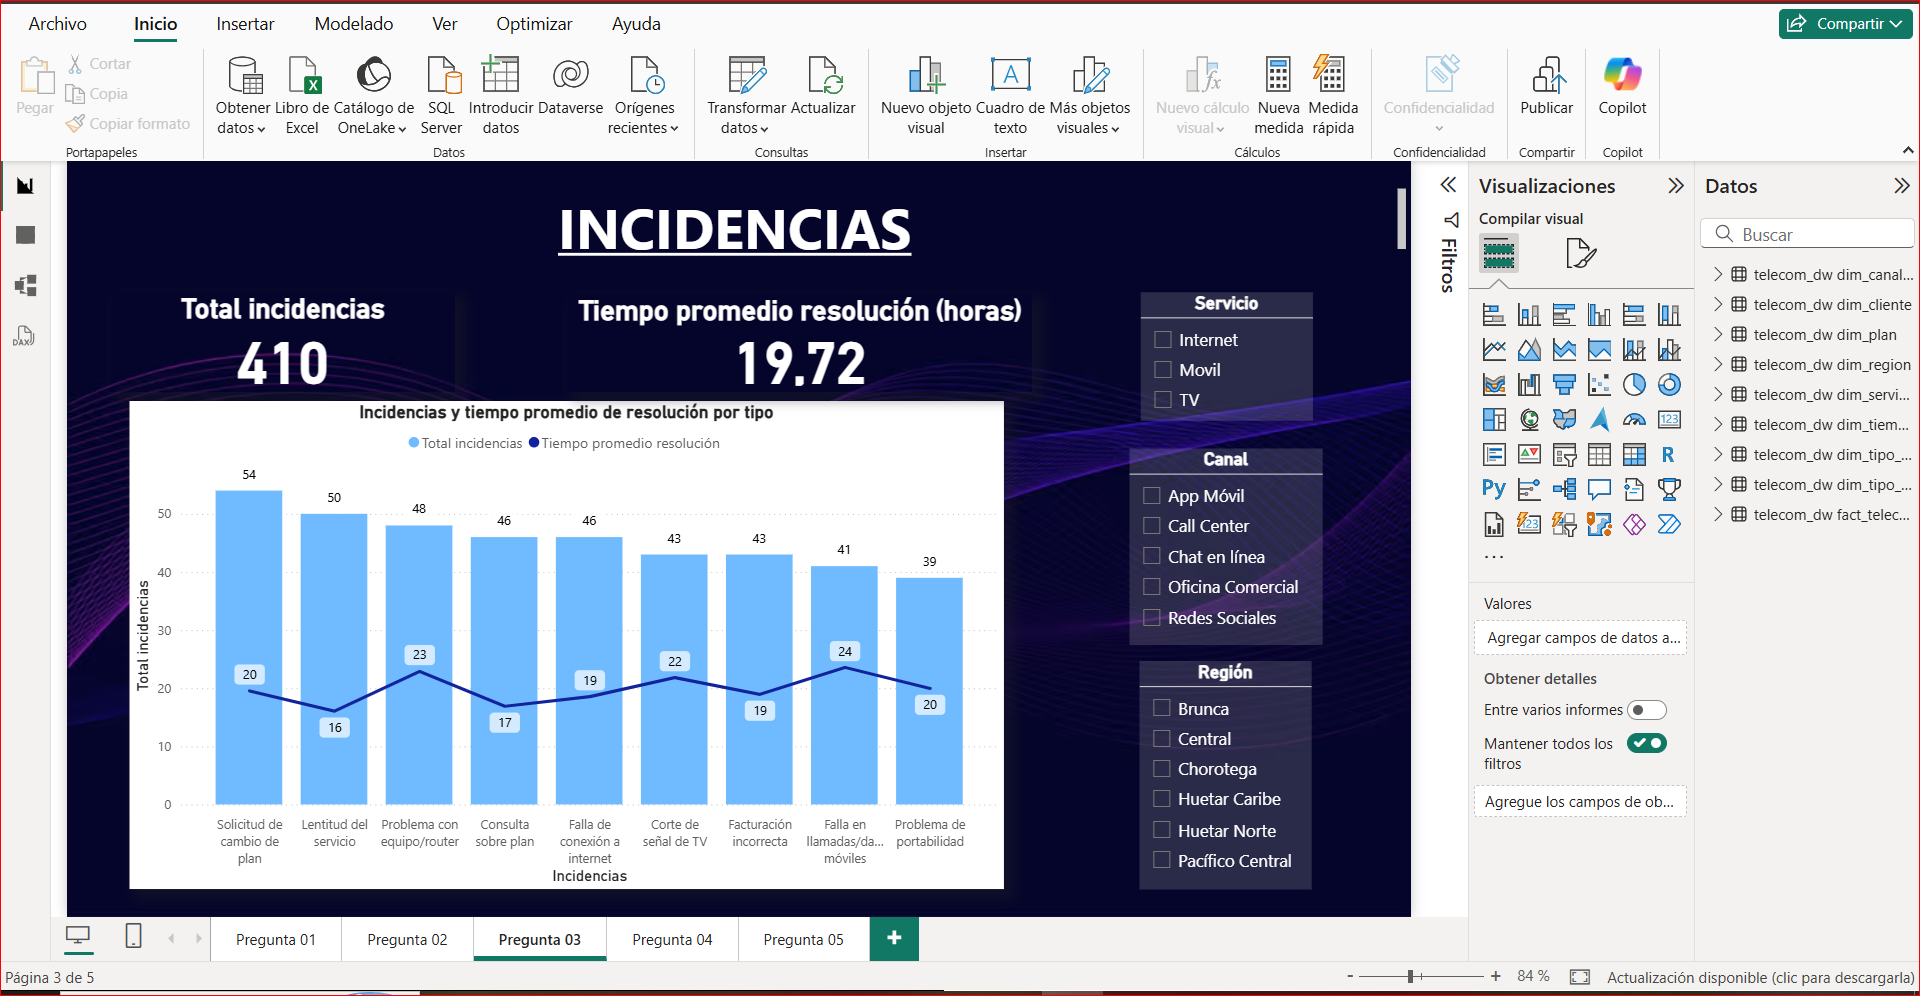

This screenshot's page, from the dashboard's own definition file:
{"tool":"powerbi","page":{"name":"Pregunta 03","canvas":[1280,720],"ordinal":2},"visuals":[{"type":"card","title":"Total incidencias","fields":{"Values":["telecom_dw fact_telecomunicaciones.Total incidencias"]},"box":[41.7,125,328.3,95],"z":0},{"type":"lineStackedColumnComboChart","title":"Incidencias y tiempo promedio de resolución por tipo","fields":{"Category":["telecom_dw dim_tipo_incidencia.nombre_tipo"],"Y":["telecom_dw fact_telecomunicaciones.Total incidencias"],"Y2":["telecom_dw fact_telecomunicaciones.Tiempo promedio resolución"]},"box":[60,228.8,832.5,465],"z":1000},{"type":"slicer","title":"Región","fields":{"Values":["telecom_dw dim_region.region"]},"box":[1021.2,476.2,163.8,217.5],"z":2000},{"type":"slicer","title":"Canal","fields":{"Values":["telecom_dw dim_canal_atencion.nombre_canal"]},"box":[1012.5,273.8,183.8,187.5],"z":3000},{"type":"textbox","box":[0,21.2,1280,73.8],"z":4000},{"type":"card","title":"Tiempo promedio resolución (horas)","fields":{"Values":["telecom_dw fact_telecomunicaciones.Tiempo promedio resolución"]},"box":[476.7,126.7,443.3,93.3],"z":5000},{"type":"slicer","title":"Servicio","fields":{"Values":["telecom_dw dim_servicio.nombre_servicio"]},"box":[1022.5,125,163.8,122.5],"z":6000}]}

Visuals, with their boxes on the page's 1280x720 design canvas (x1, y1, x2, y2). These are canvas units, not pixel positions in the 1920x996 screenshot, which may show the page scaled, cropped or inside an application window:
"Total incidencias" card: locate(42, 125, 370, 220)
"Incidencias y tiempo promedio de resolución por tipo" lineStackedColumnComboChart: locate(60, 229, 892, 694)
"Región" slicer: locate(1021, 476, 1185, 694)
"Canal" slicer: locate(1012, 274, 1196, 461)
textbox: locate(0, 21, 1280, 95)
"Tiempo promedio resolución (horas)" card: locate(477, 127, 920, 220)
"Servicio" slicer: locate(1022, 125, 1186, 248)
